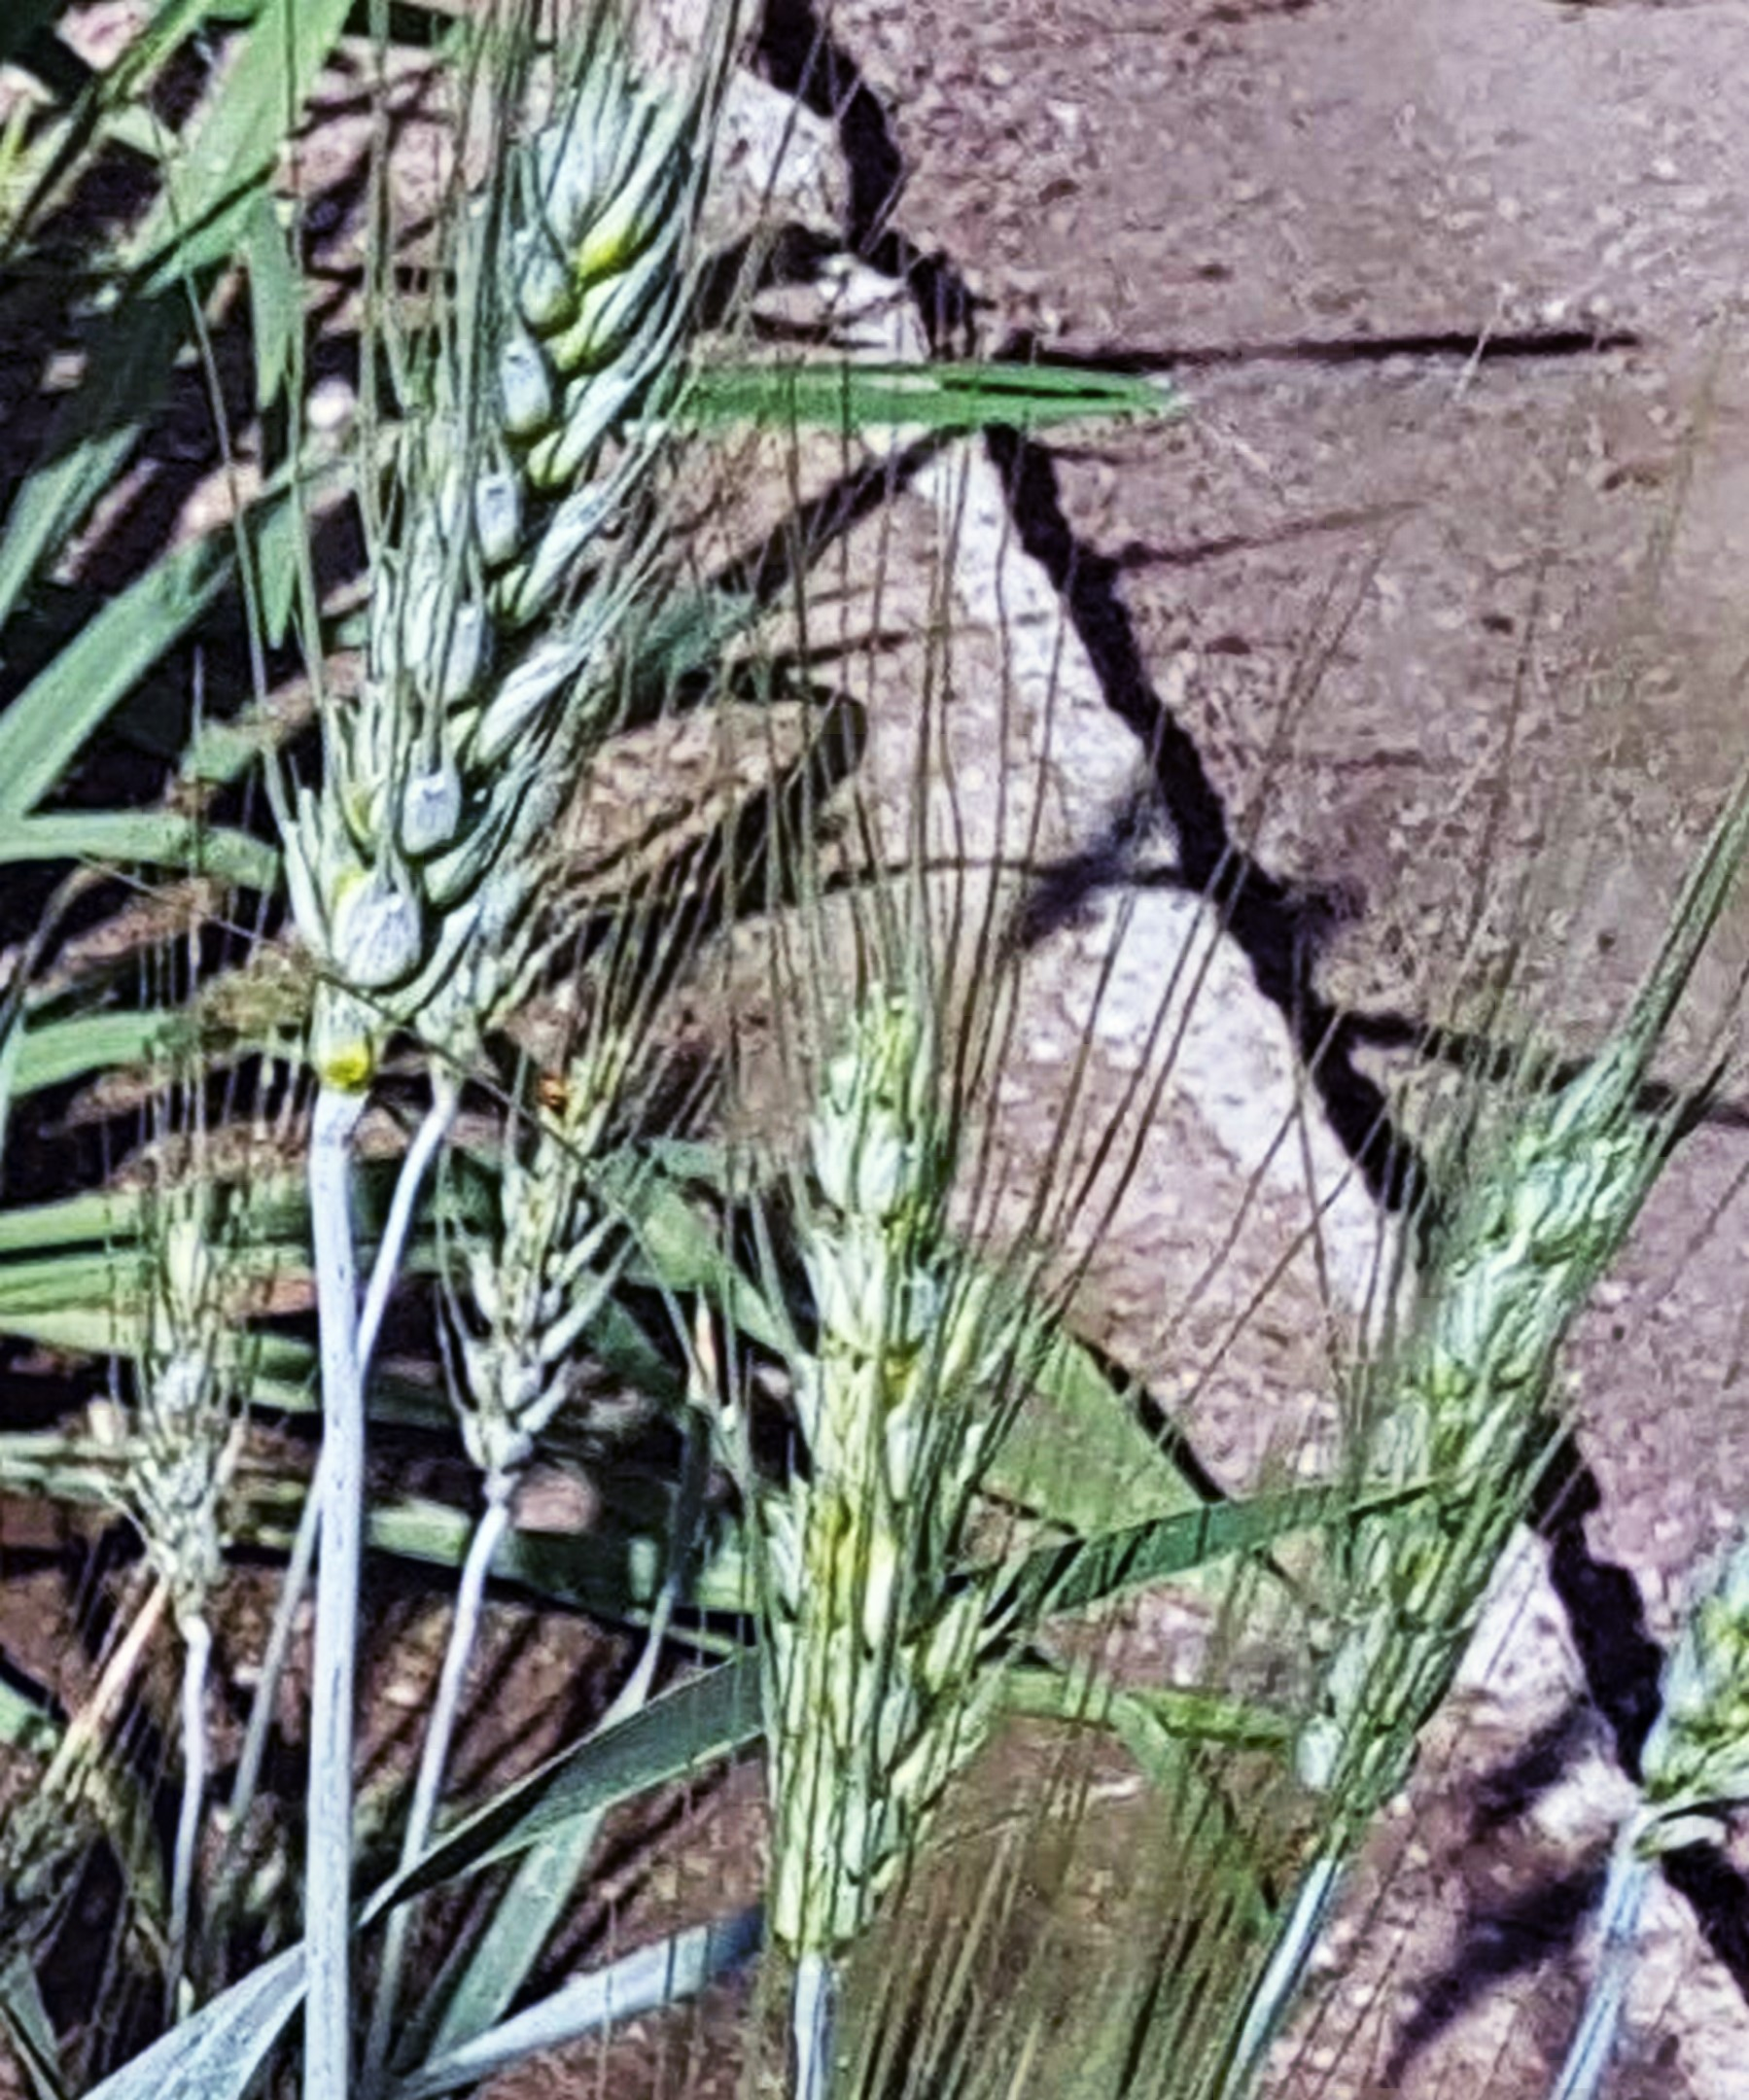Healthy Wheat: (300, 21, 722, 1053)
